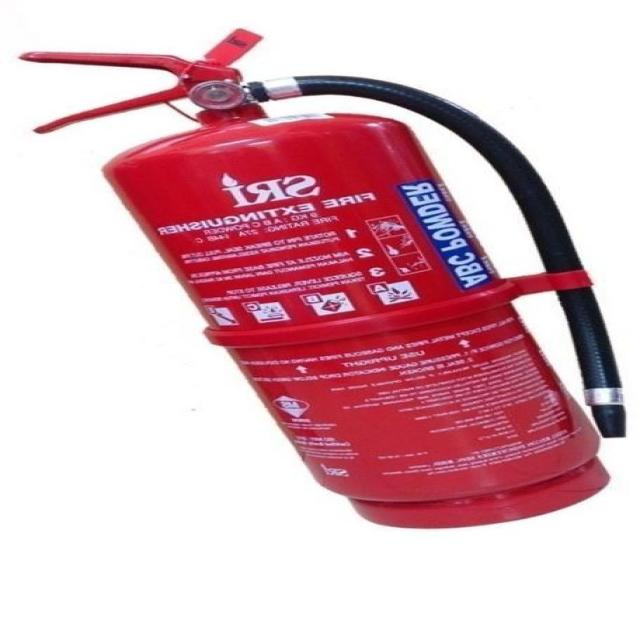fire_extinguisher: (9, 21, 638, 536)
